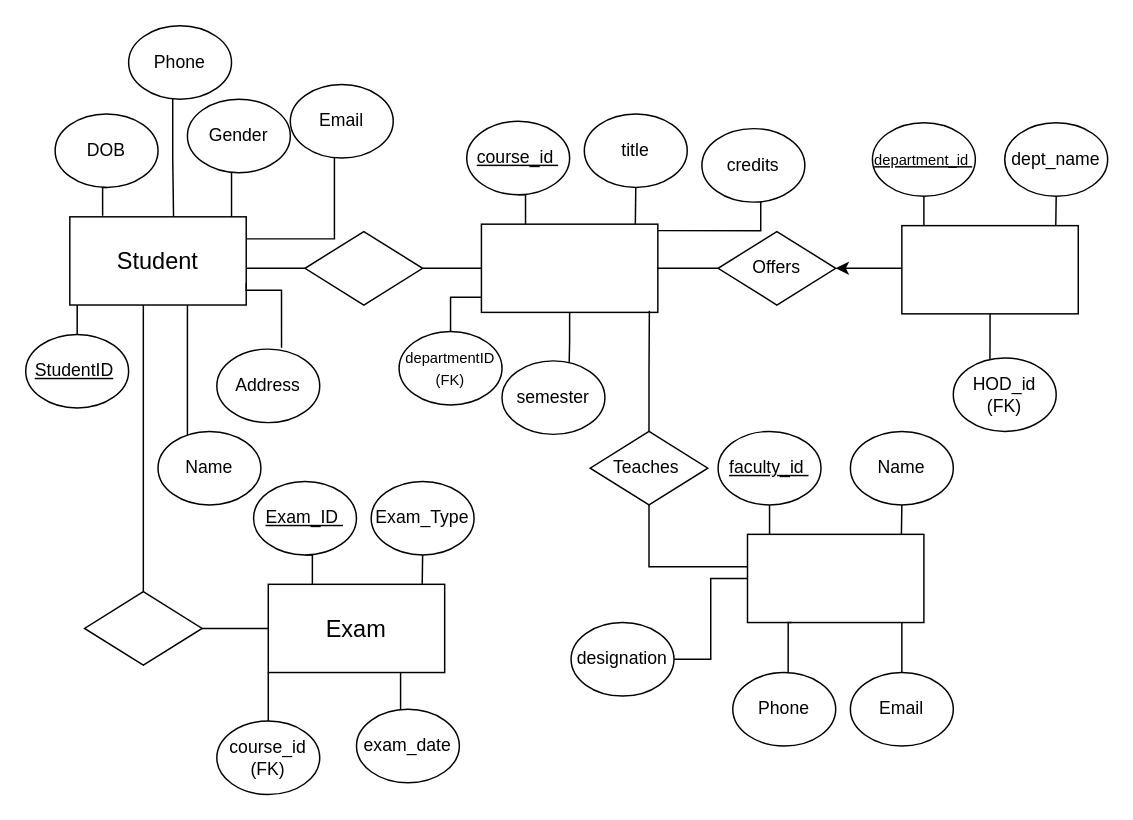
Image size: 1133x820. Some labels were removed from this diagram. Here are the shapes that lost their labels. From the top down, the box of each, then its label:
(304, 230, 423, 305): Enrolled In
(480, 223, 658, 312): Course
(900, 224, 1078, 314): Department
(746, 533, 924, 623): Faculty
(83, 590, 202, 665): Appears
